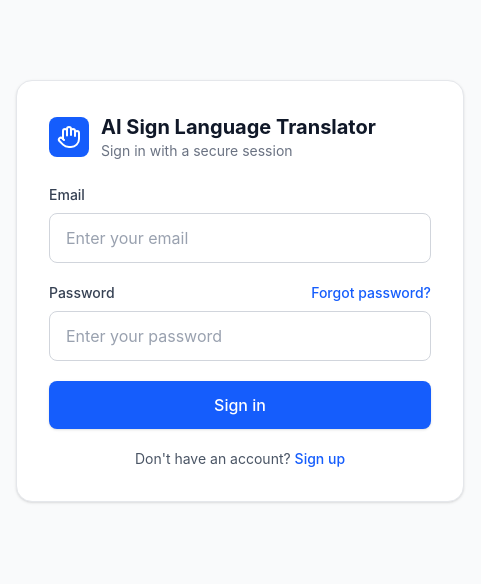
Test: LoginPage › resends verification emails after a verification error
This screenshot has width=481, height=584.
In the field labelled "Email": (240, 238) top-left (49, 213), bottom-right (431, 263), type "user@example.com"
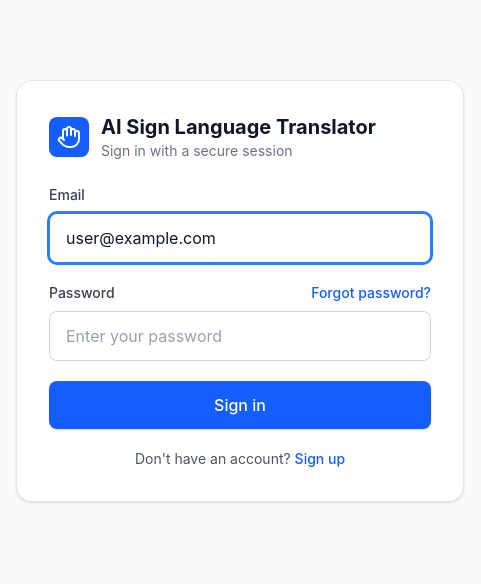
In the password field labelled "Password": (240, 336) top-left (49, 311), bottom-right (431, 361), type "supersecret"
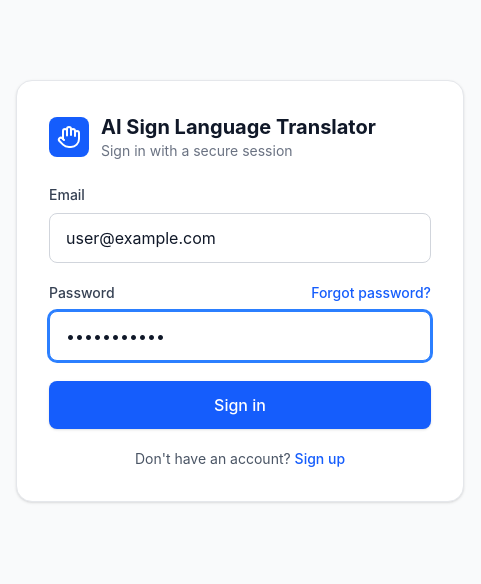
Click the button "Sign in": (240, 405) top-left (49, 381), bottom-right (431, 429)
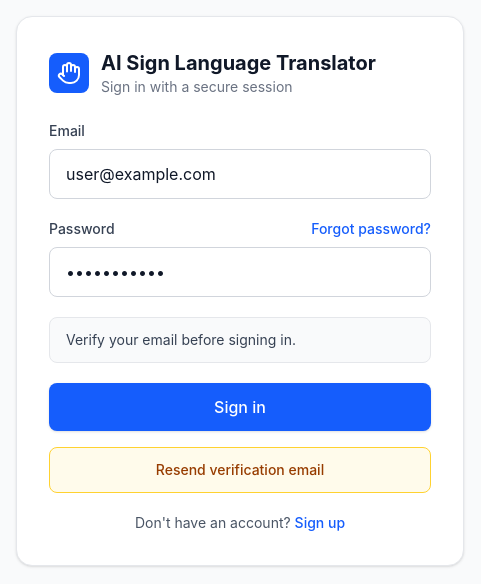
Click the button "Resend verification email": (240, 470) top-left (49, 447), bottom-right (431, 493)
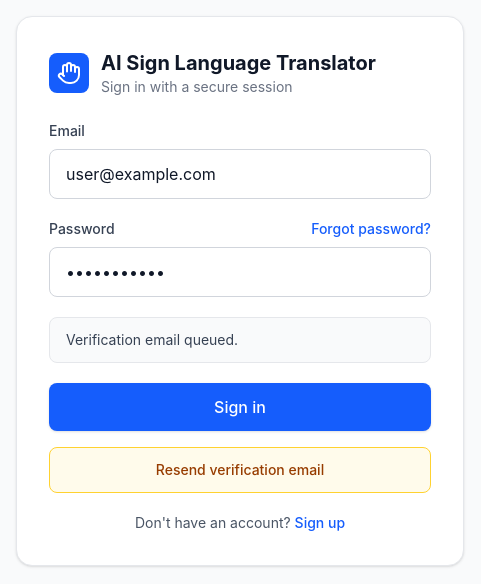
Now the text "Verification email queued." is shown, box top-left (49, 317), bottom-right (431, 363)
